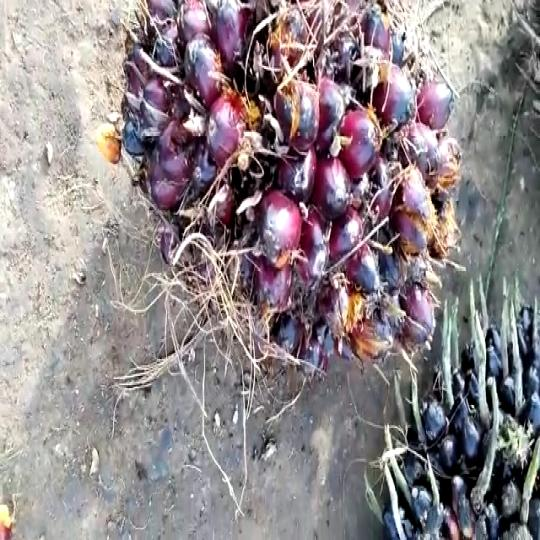kurang masak: (110, 0, 457, 390)
